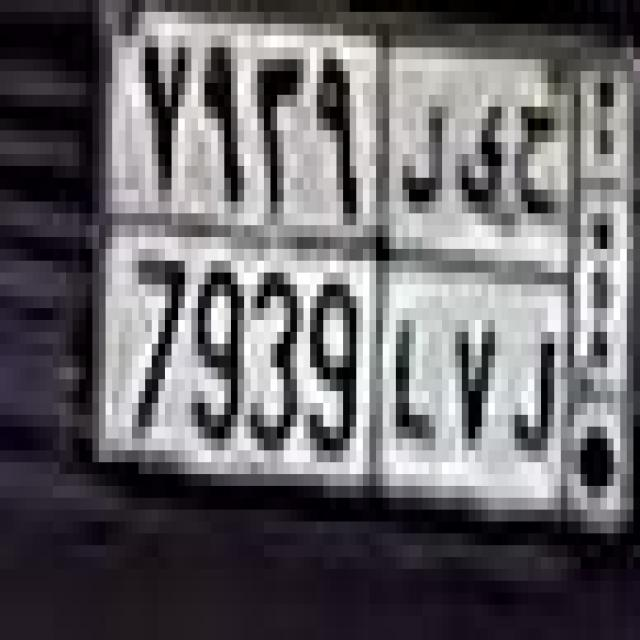license_plate: (98, 3, 631, 551), (125, 245, 561, 498)
